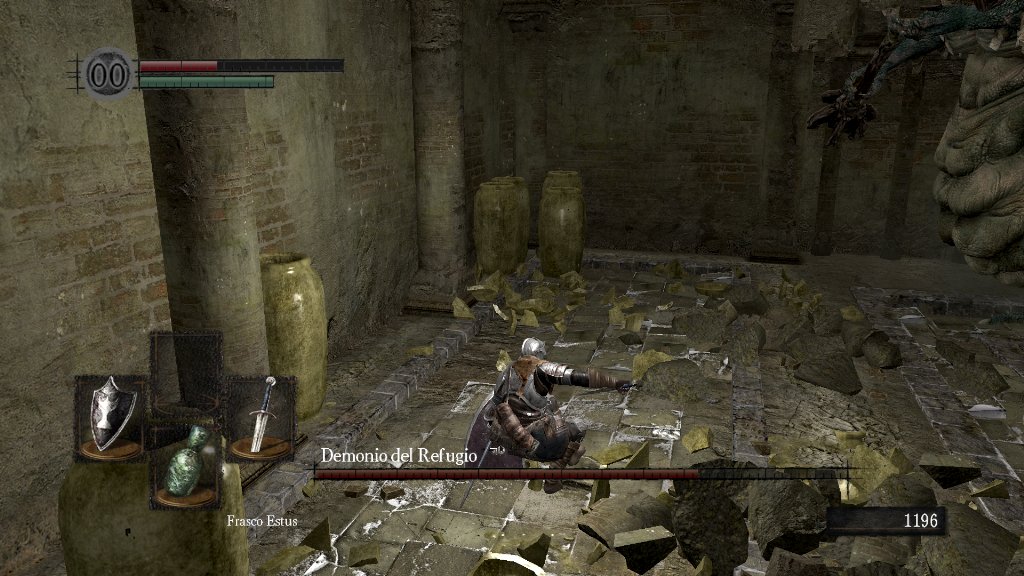asylumDemon: (806, 2, 1024, 324)
bossHP: (314, 469, 847, 479)
health: (138, 58, 343, 71)
humanity: (80, 45, 136, 102)
player: (462, 336, 649, 495)
souls: (825, 506, 945, 536)
stamina: (138, 74, 274, 88)
